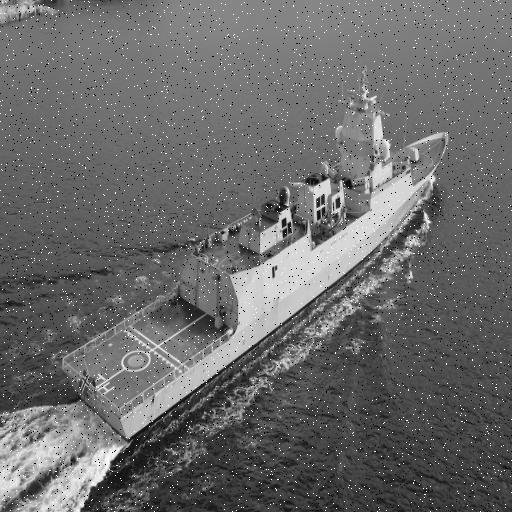Fragata: (60, 56, 453, 462)
